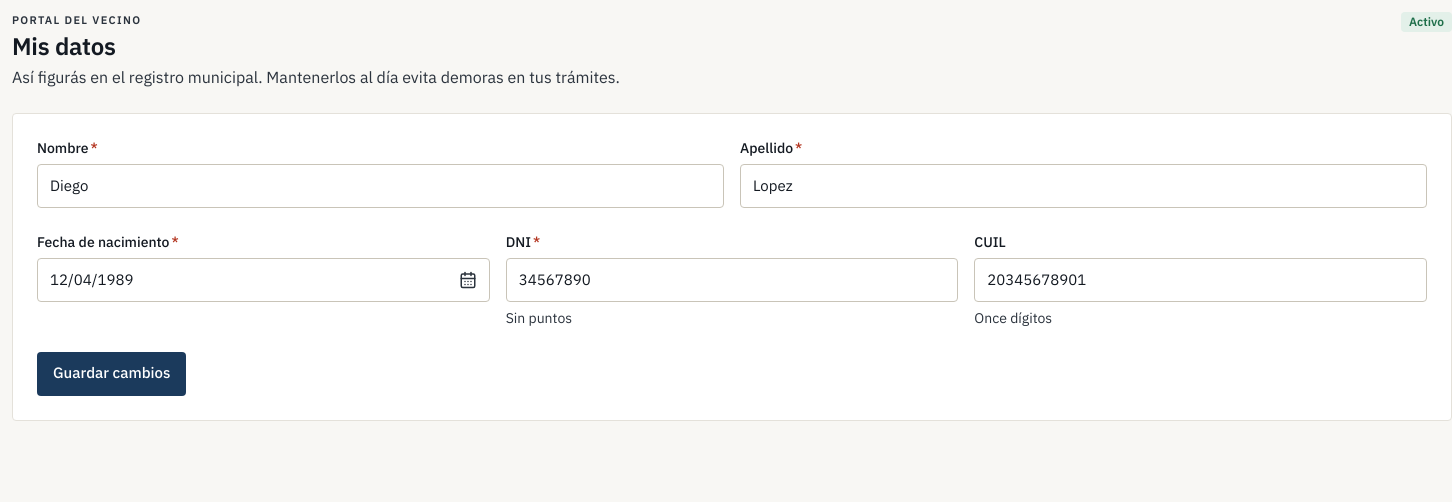
Test: Perfil › conserva los datos y permite reintentar si el servidor devuelve 409
Check: the field labelled "Nombre" is shown, box [37,164,724,208]
What coordinates should you click on to do the following:
click the button "Guardar cambios"
I would click on:
 (112, 374)
Its box is [37,352,186,396].
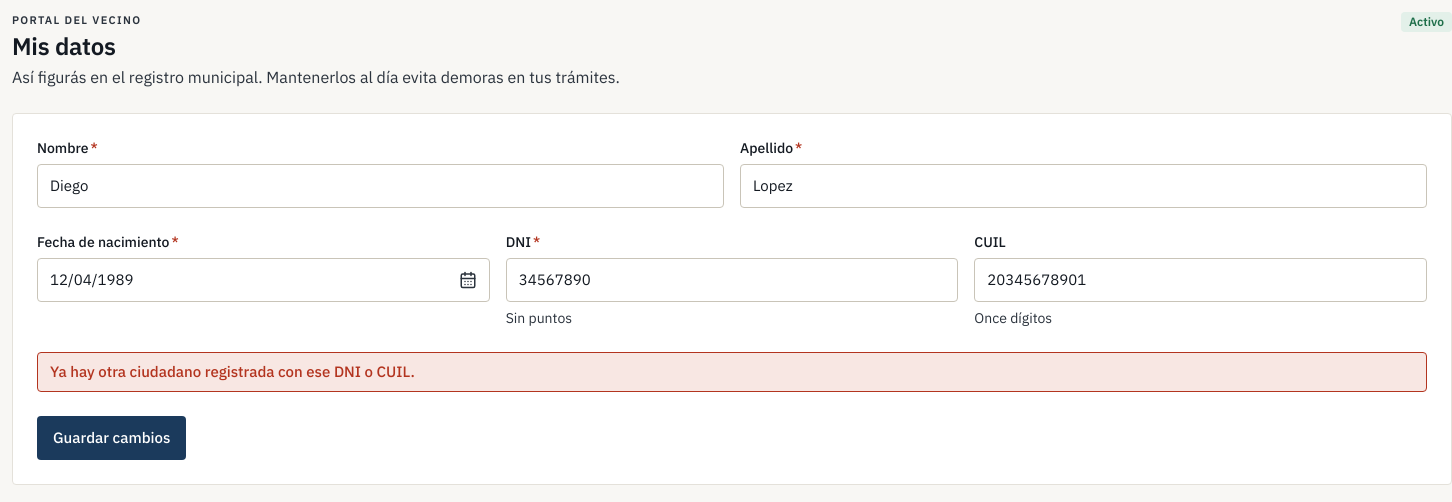
Check: the field labelled "DNI" holds "34567890", box [506,258,958,302]
Check: the message shows "otra ciudadano registrada con ese DNI o CUIL", box [50,362,415,380]
